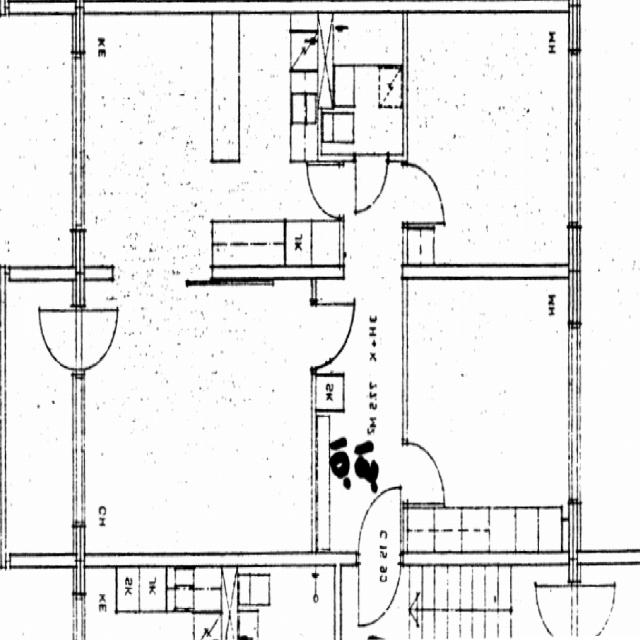door: (359, 486, 401, 566), (359, 552, 401, 632), (73, 311, 122, 368), (312, 304, 356, 367), (38, 311, 86, 368), (402, 443, 446, 504), (403, 165, 444, 223), (307, 164, 344, 217), (356, 153, 387, 212)
